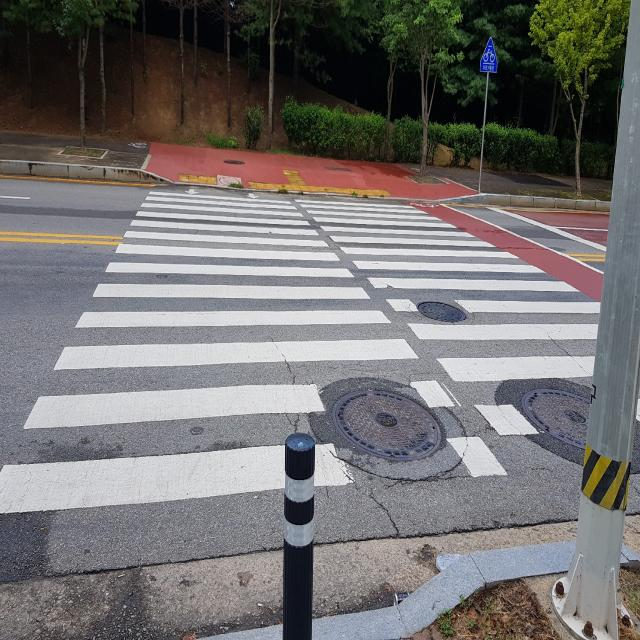횡단보도: (0, 190, 640, 514)
